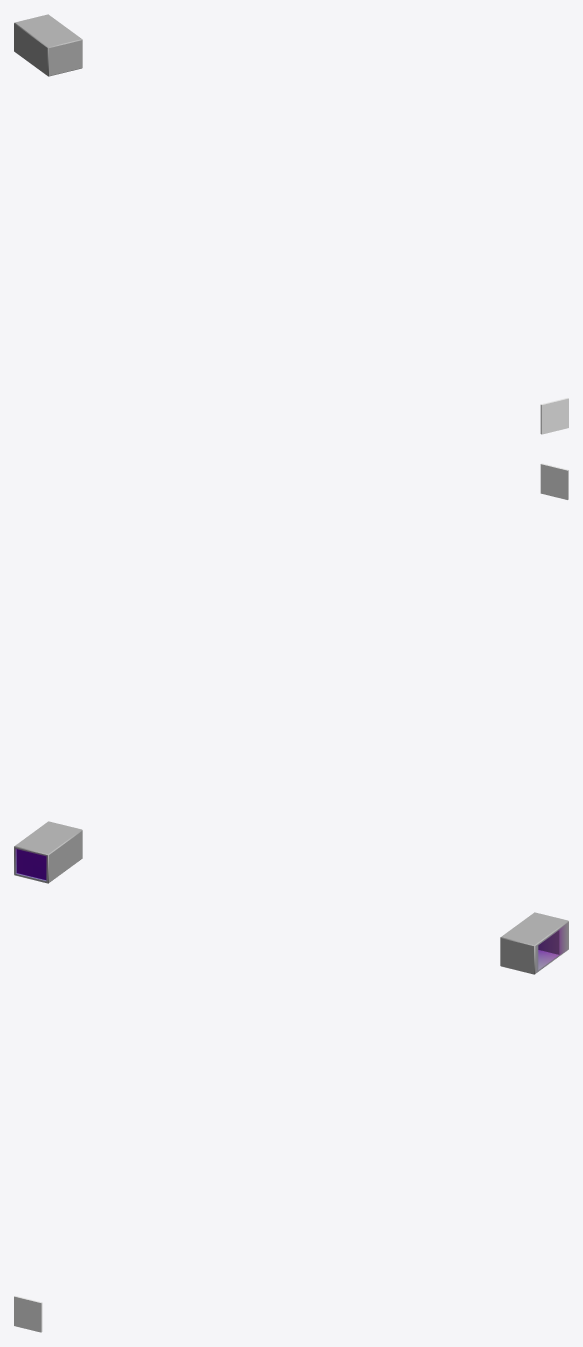
3 views of the same model, one above another, from view 1: azimuth 30°, elevation 25°; view 2: azimuth 150°, elevation 25°; view 3: azimuth 330°, elevation 25° (orthographic).
Parts seen in each view (by area): view 1: housing, plate; view 2: housing, plate; view 3: housing, plate.
Part boxes in pixels (box(x1,y1,x2,y2)): housing: box(14, 14, 82, 76); plate: box(540, 398, 568, 434); housing: box(14, 821, 82, 883); plate: box(540, 463, 568, 499); housing: box(500, 912, 568, 974); plate: box(14, 1296, 42, 1332).
Size of the model in its own units: 0.0193 by 0.0155 by 0.5.
